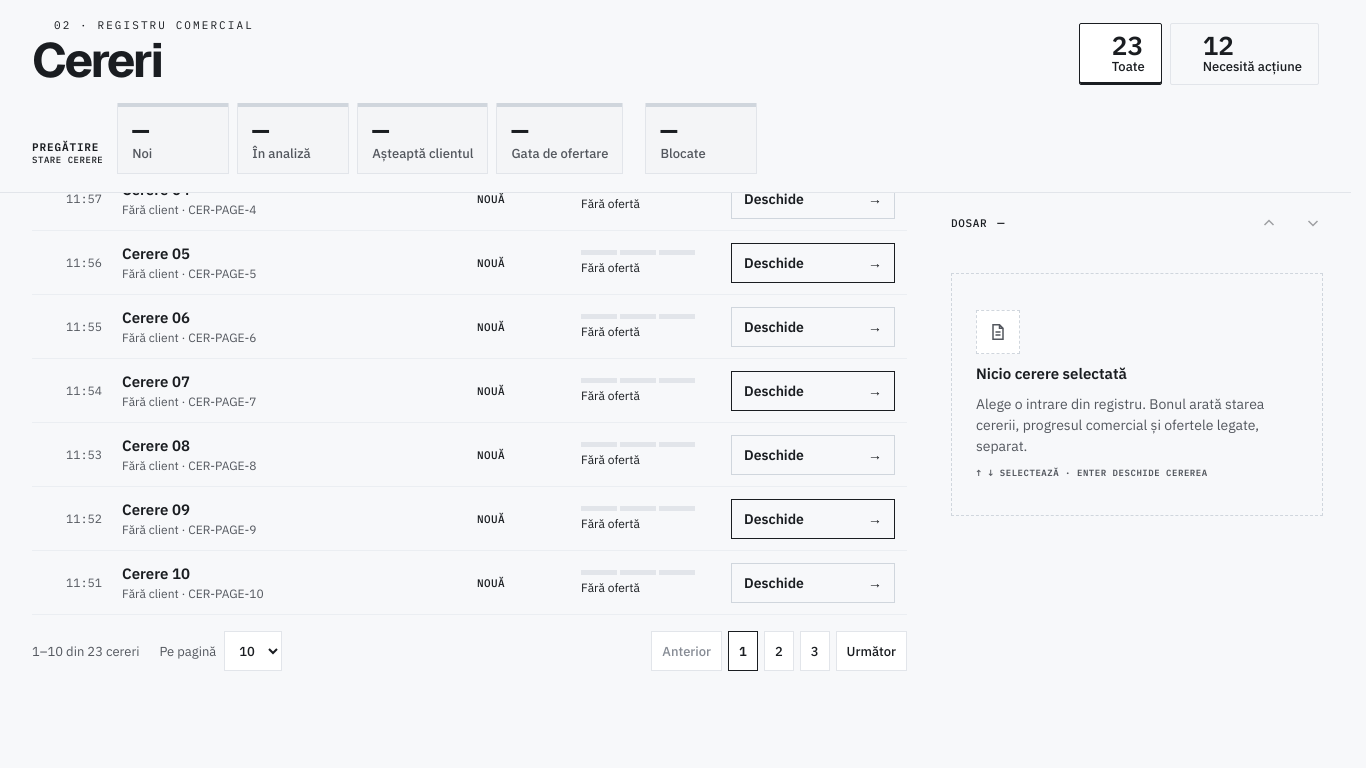
Test case: RequestsPage › paginates all results with correct boundaries and resets page size
(page scrolled)
Check: the message "1–10 din 23 cereri" is shown, box x1=32 y1=643 x2=140 y2=660
Check: the button "Anterior" is disabled, box x1=651 y1=631 x2=722 y2=671
Click the button "Următor" at point(871, 651), box x1=836 y1=631 x2=907 y2=671
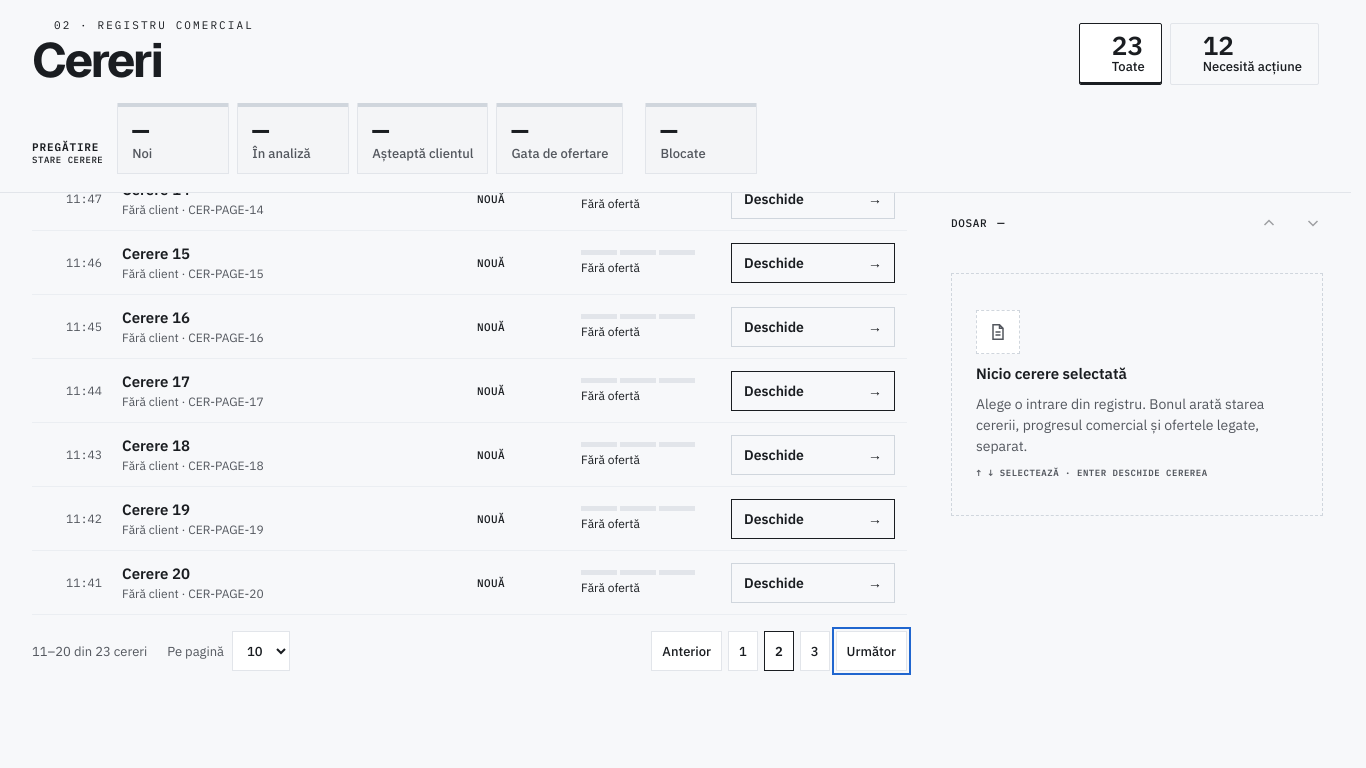
Check: the message "11–20 din 23 cereri" is shown, box x1=32 y1=643 x2=147 y2=660
Click the button "Următor" at point(871, 651), box x1=836 y1=631 x2=907 y2=671
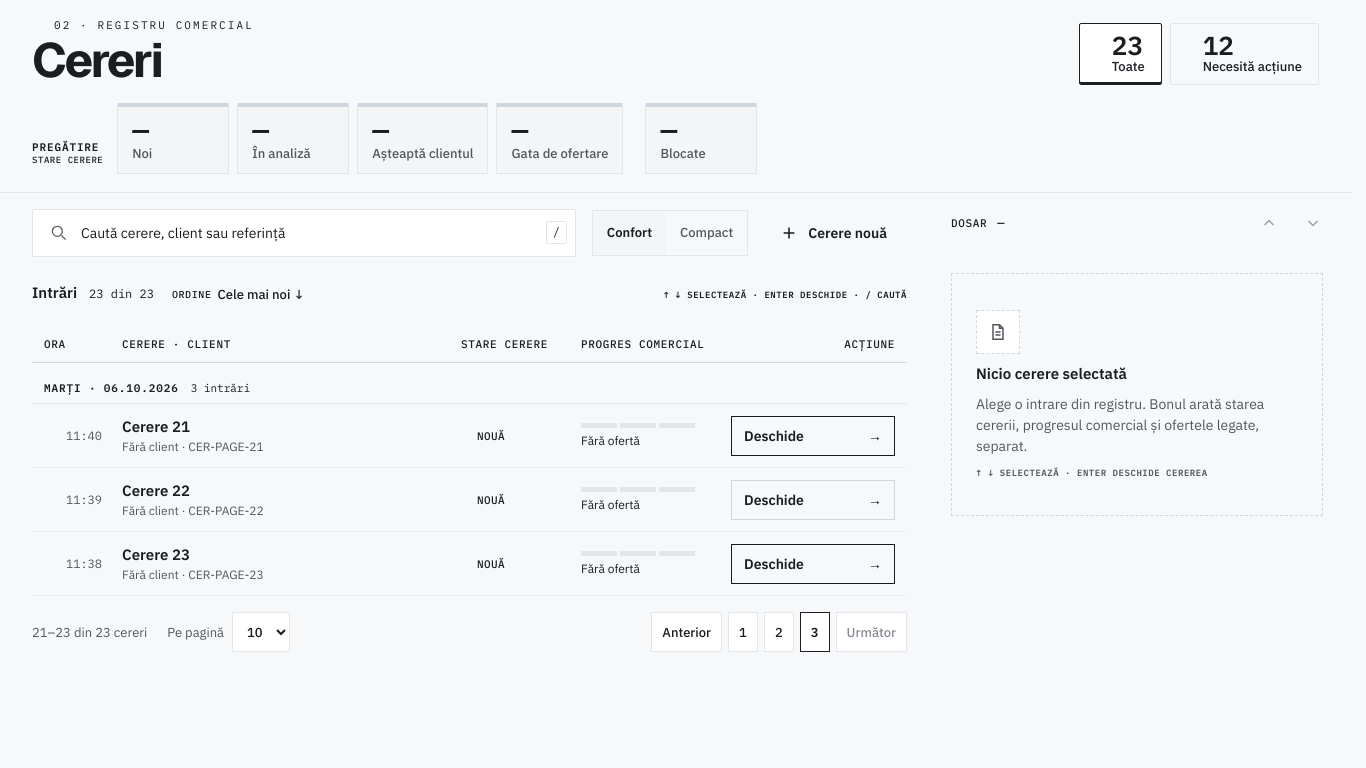
Check: the message "21–23 din 23 cereri" is shown, box x1=32 y1=624 x2=147 y2=641
Check: the button "Următor" is disabled, box x1=836 y1=612 x2=907 y2=652
Click the button "Anterior" at point(687, 632), box x1=651 y1=612 x2=722 y2=652
(page scrolled)
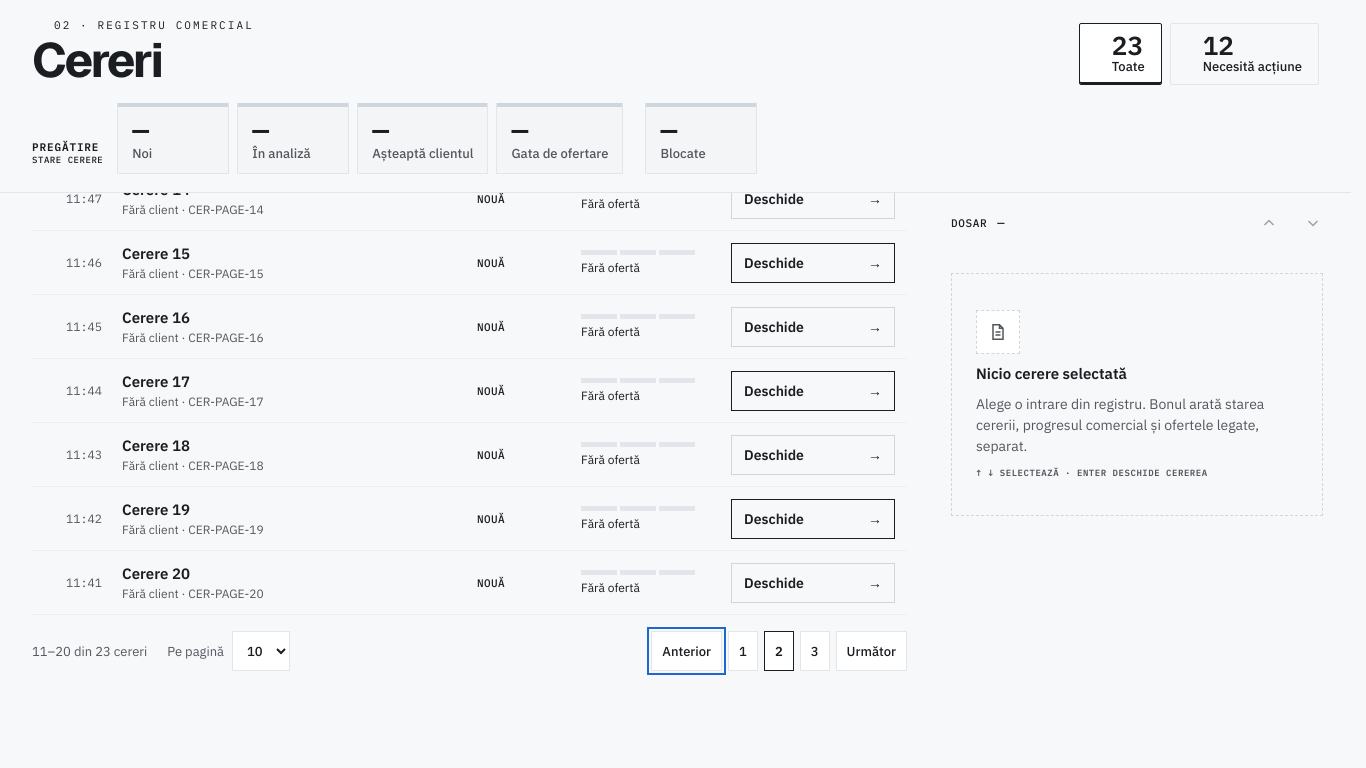
Check: the message "11–20 din 23 cereri" is shown, box x1=32 y1=643 x2=147 y2=660
Select "20" in the dropdown labelled "Pe pagină" at point(261, 651), box x1=232 y1=631 x2=290 y2=671
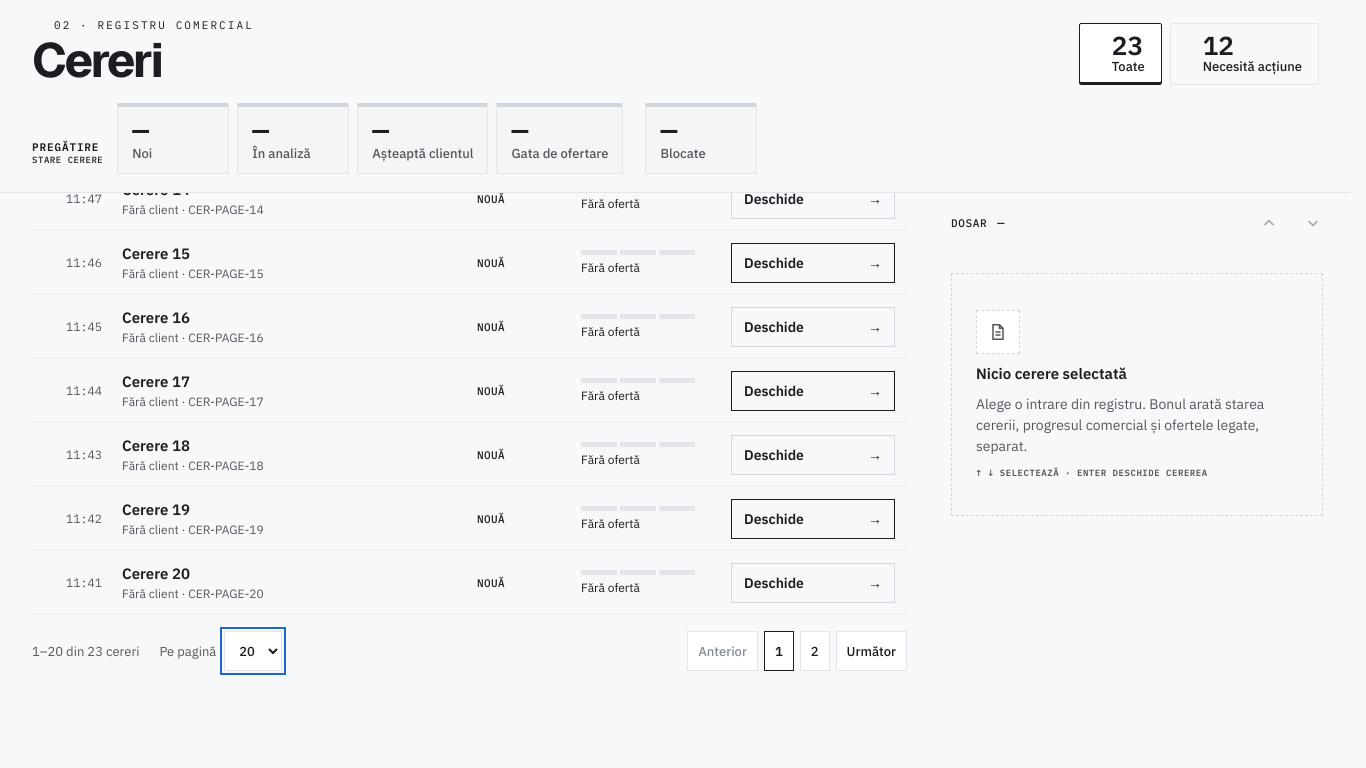
Check: the message "1–20 din 23 cereri" is shown, box x1=32 y1=643 x2=140 y2=660
Select "50" in the dropdown labelled "Pe pagină" at point(253, 651), box x1=224 y1=631 x2=282 y2=671
(page scrolled)
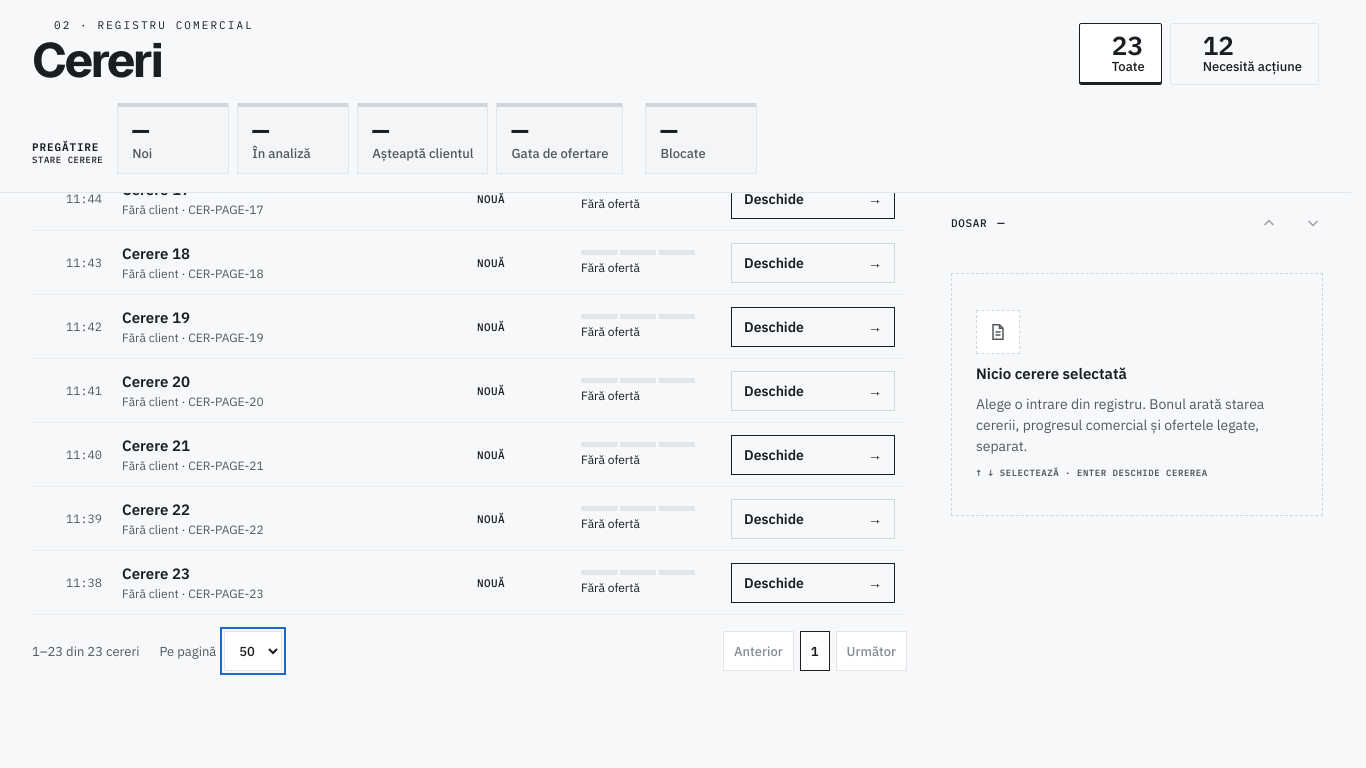
Check: the button "Următor" is disabled, box x1=836 y1=631 x2=907 y2=671
